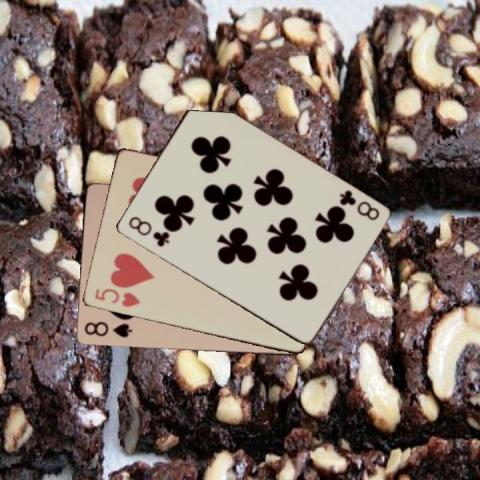5h: (91, 285, 142, 309)
8c: (125, 213, 170, 249), (336, 187, 381, 222)
8s: (82, 319, 134, 340)
